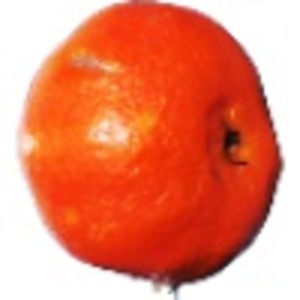tangerina: (15, 2, 287, 300)
